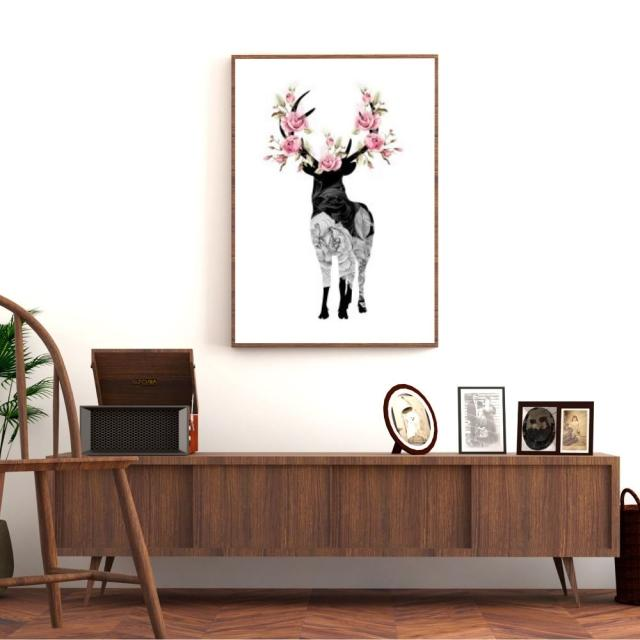painting: (232, 53, 439, 345)
